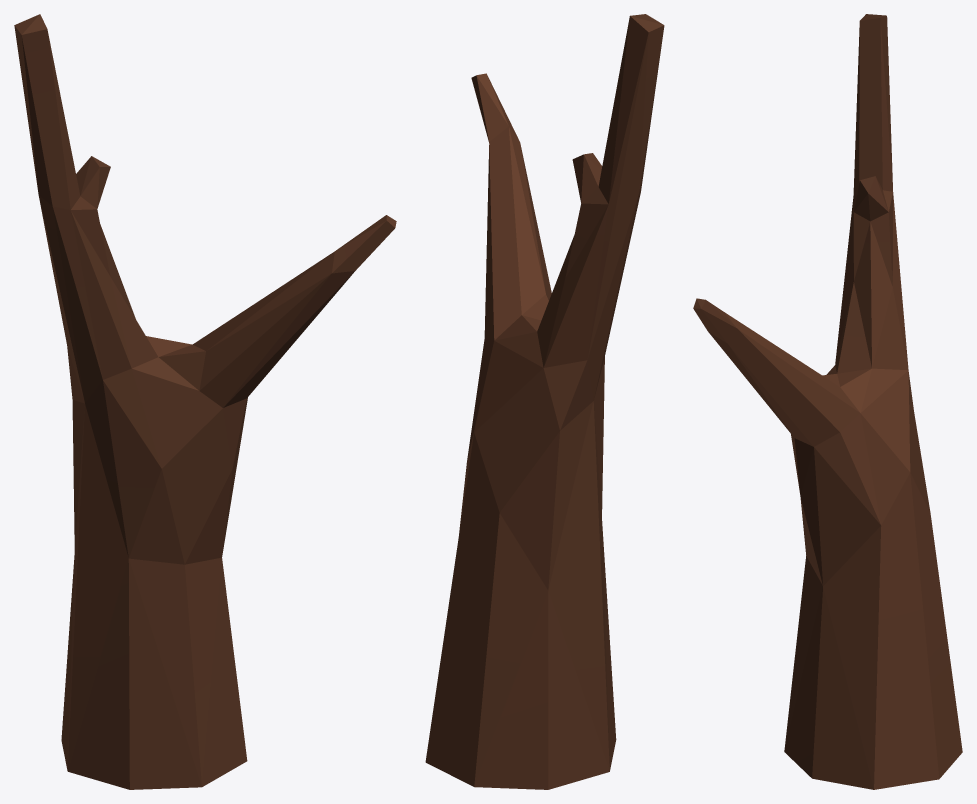
Rendered from 1Stad.fbx.
3 renders of one model, left to right at view 1: azimuth 30°, elevation 25°; view 2: azimuth 150°, elevation 25°; view 3: azimuth 270°, elevation 25°, orthographic. The views are drawn at different scales.
Visible parts, largest first — view 1: Cube.037; view 2: Cube.037; view 3: Cube.037.
Boxes of the visible parts, <box> form: Cube.037: <box>14,14,396,789</box>; Cube.037: <box>425,14,664,789</box>; Cube.037: <box>693,14,962,789</box>.
Size of the model in its own units: 11.79 by 30.22 by 10.75.
